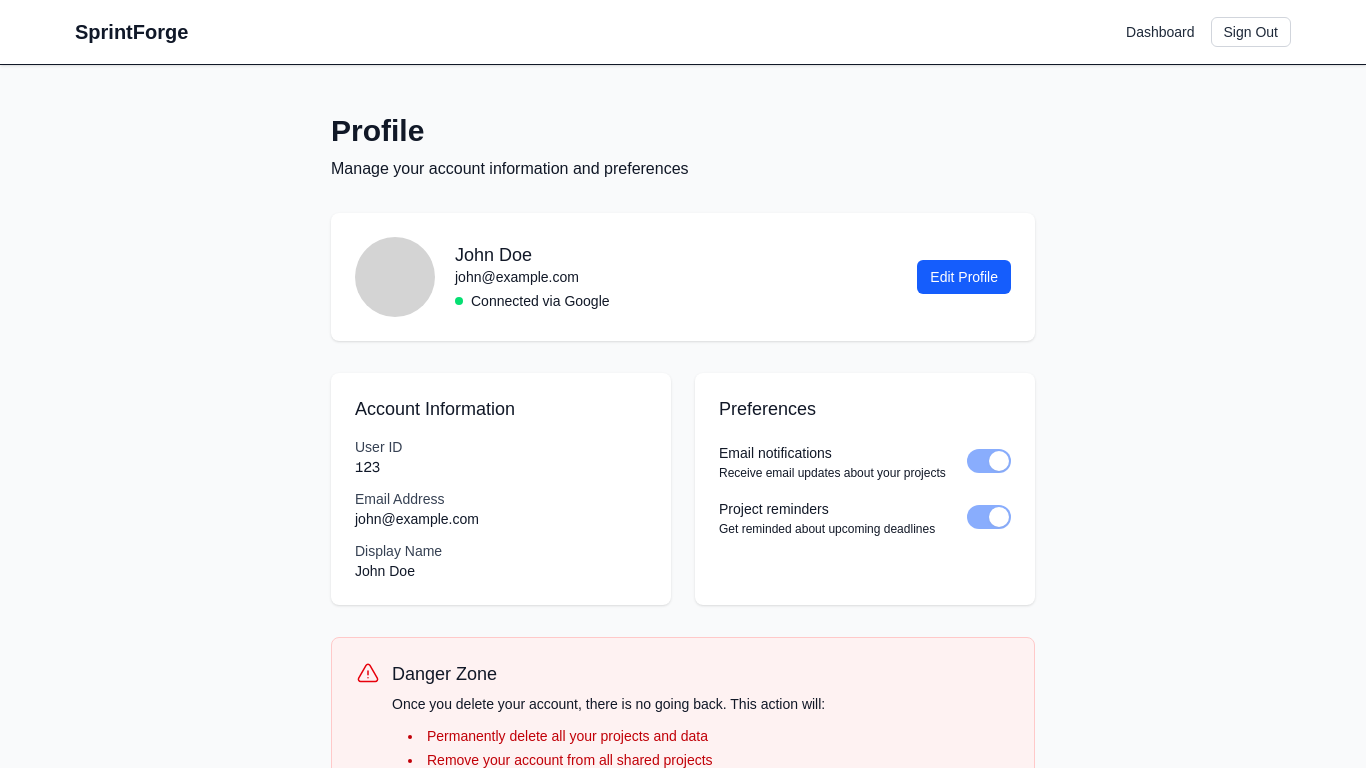
Scenario: Profile Page › cancels edit mode and resets form
# Enter edit mode
Click the button "Edit Profile" at (964, 277), box [917, 260, 1011, 294]
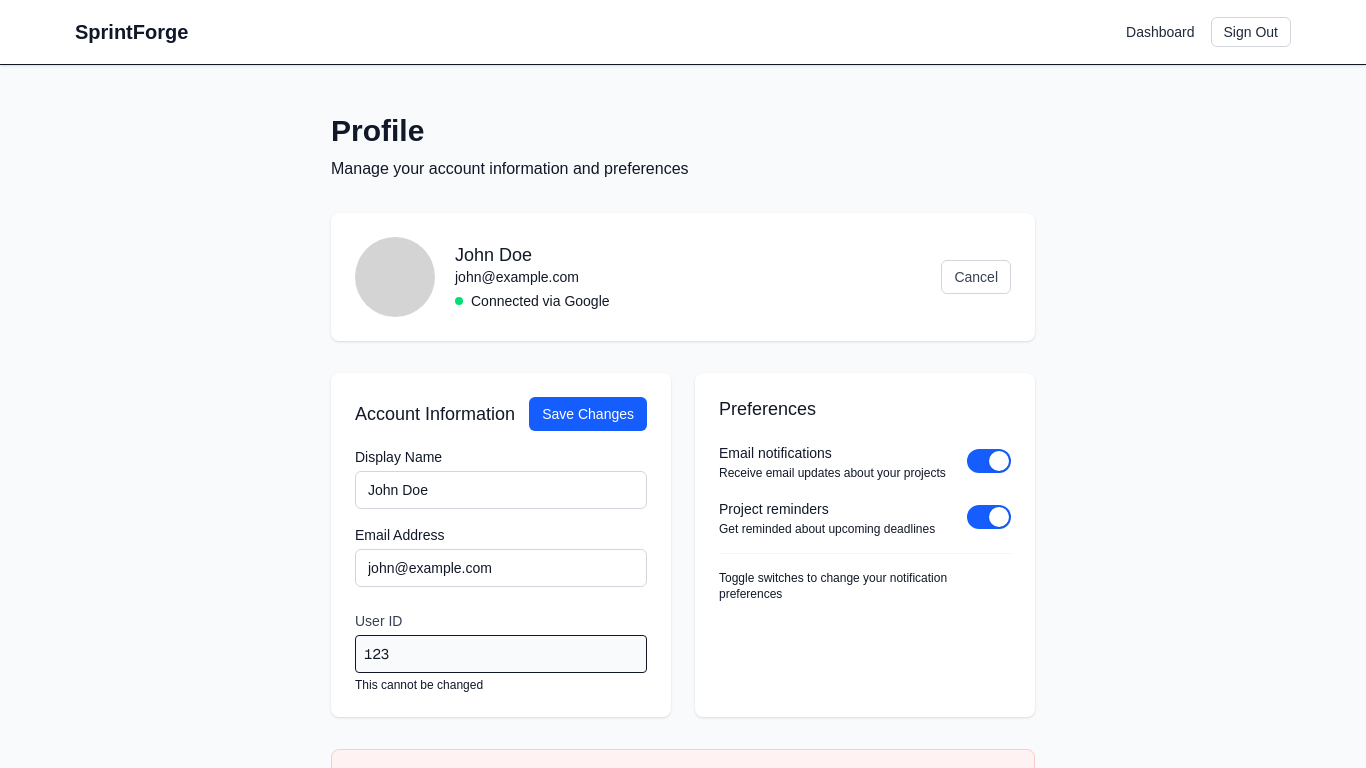
# Change some values
Replace the text in the field showing "John Doe" with "Jane Doe" at (501, 490), box [355, 471, 647, 509]
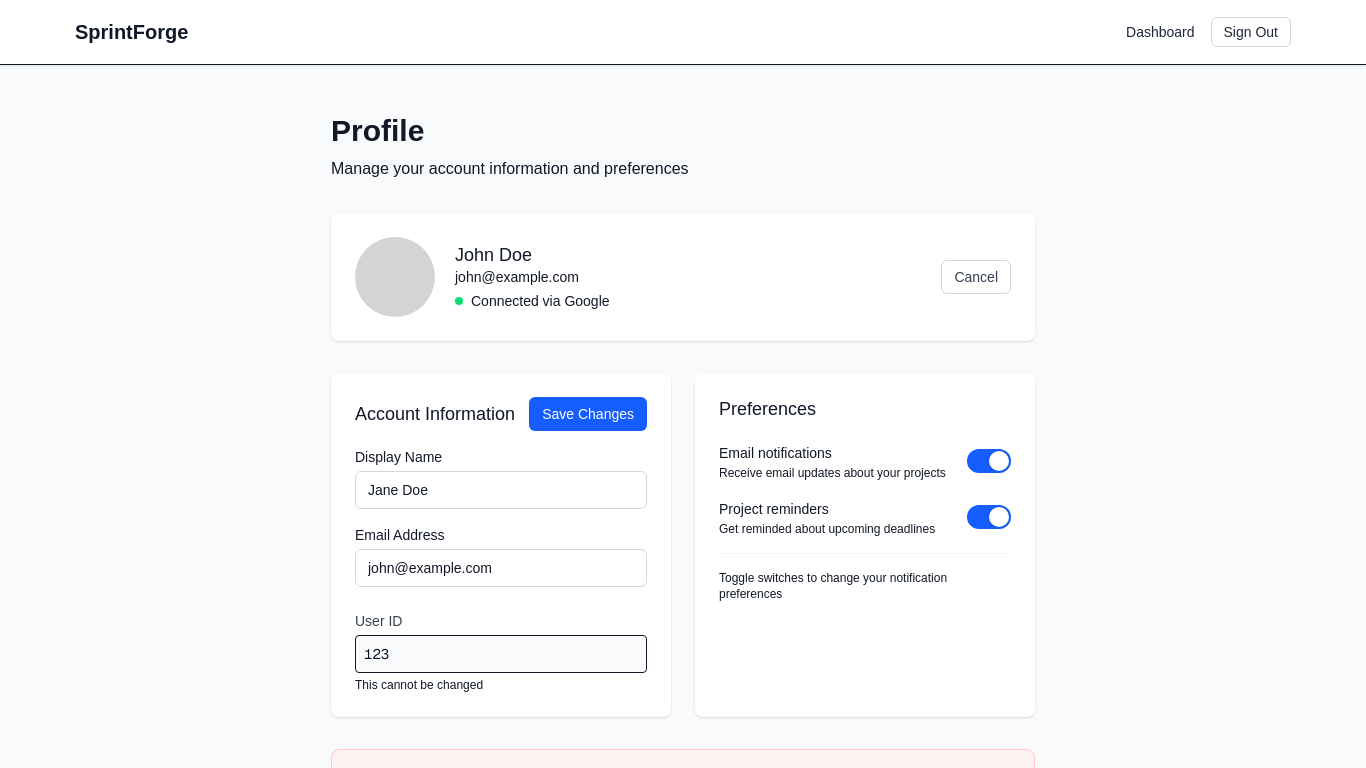
Click the button "Cancel" at (976, 277), box [941, 260, 1011, 294]
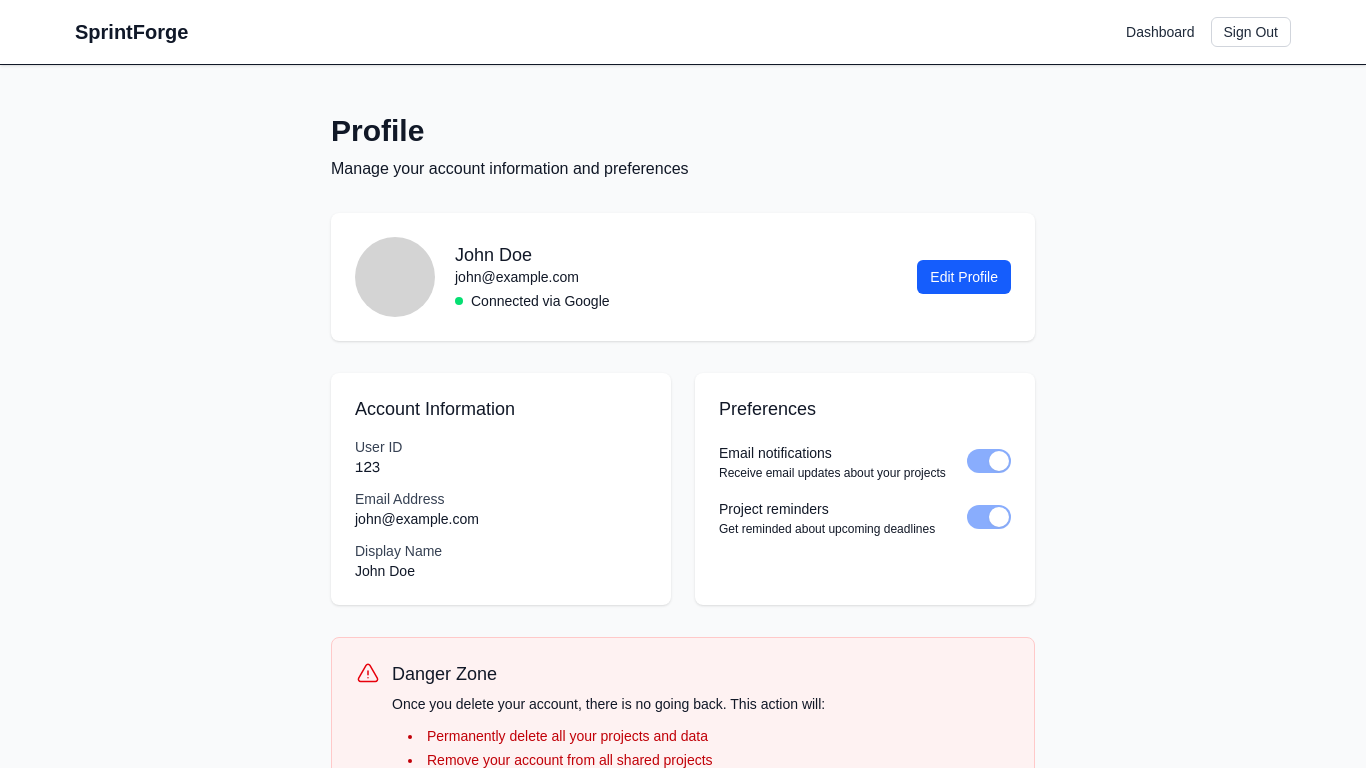
Check: the field showing "Jane Doe" is not shown
Check: the button "Edit Profile" is shown, box [917, 260, 1011, 294]
